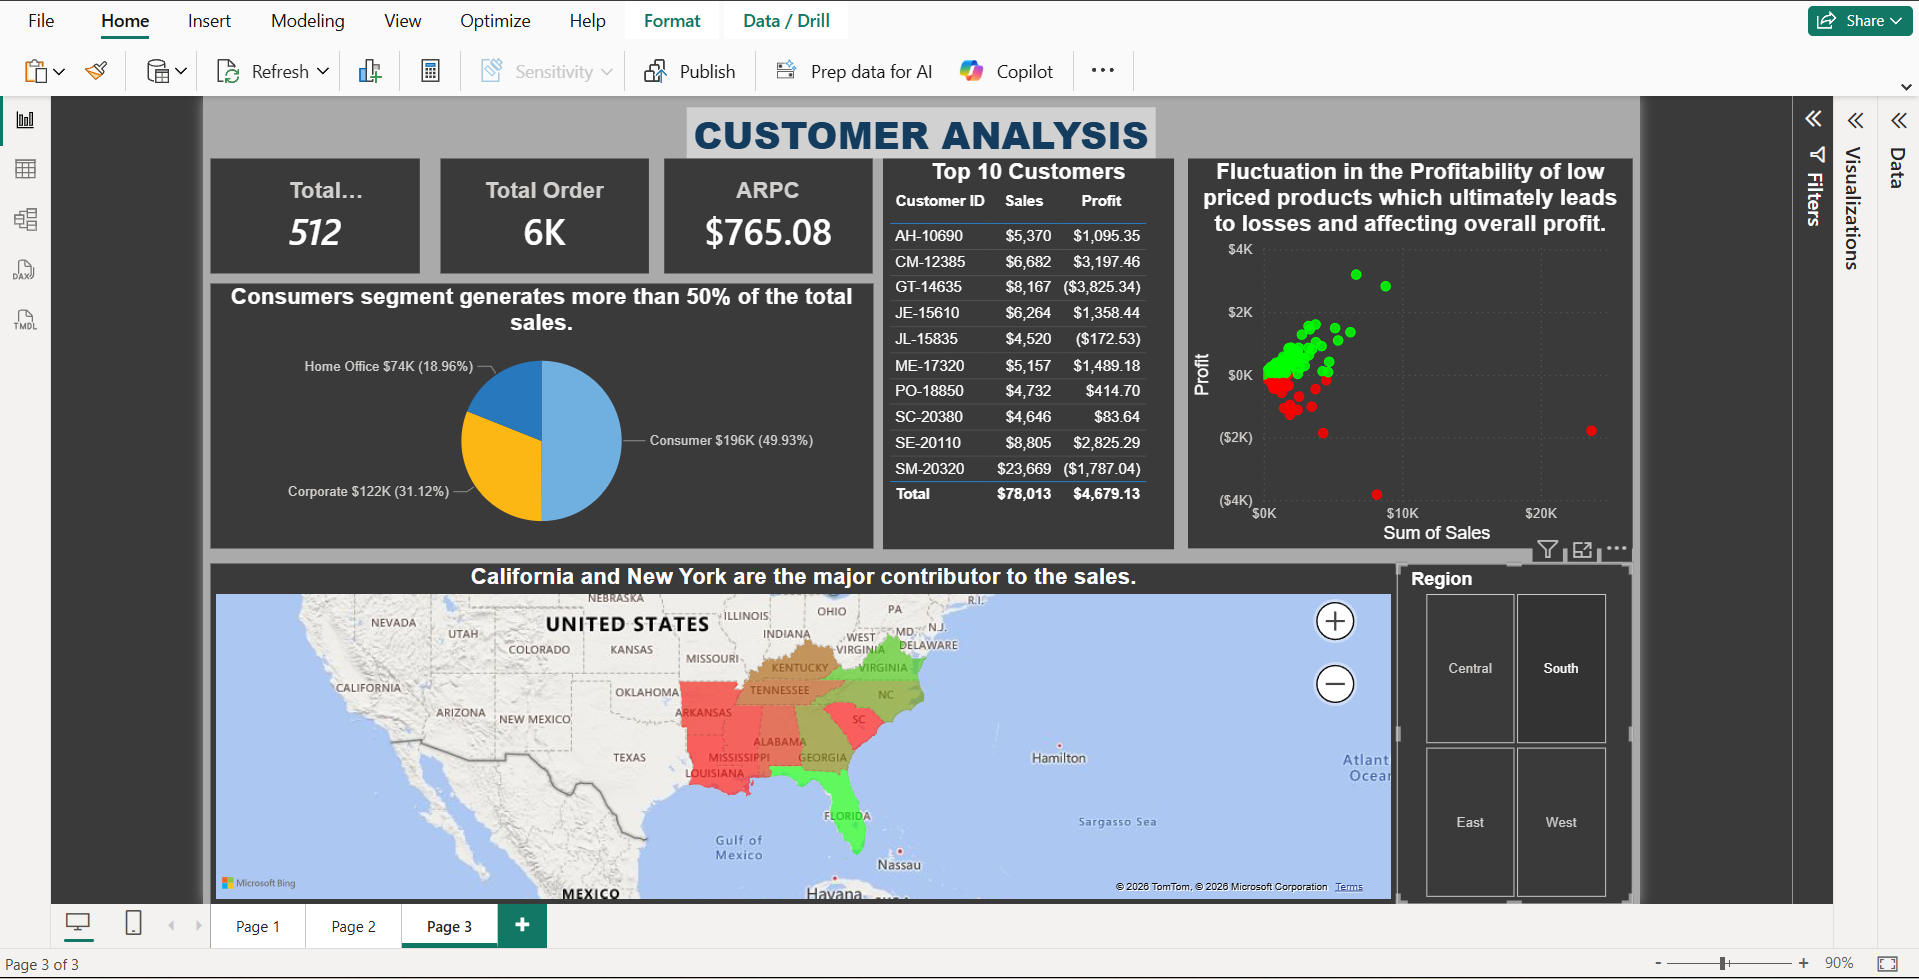

What the dashboard file says about the page in this screenshot:
{"tool":"powerbi","page":{"name":"Page 3","canvas":[1280,720],"ordinal":2},"visuals":[{"type":"textbox","title":"CUSTOMER ANALYSIS","box":[430.7,9.7,417.4,45.8],"z":0},{"type":"pieChart","title":"Consumers segment generates more than 50% of the total sales.","fields":{"Category":["superstore.Segment"],"Y":["Sum(superstore.Sales)"]},"box":[7,167,590,236],"z":1000},{"type":"tableEx","title":"Top 10 Customers","fields":{"Values":["superstore.Customer ID","Sum(superstore.Sales)","Sum(superstore.Profit)"]},"box":[605.8,55.8,259.3,347.7],"z":2000},{"type":"filledMap","title":"California and New York are the major contributor to the sales.","fields":{"Category":["superstore.State"]},"box":[6.7,416.3,1056.4,303.9],"z":3000},{"type":"cardVisual","fields":{"Data":["superstore.Total Customer"]},"box":[7,56,186,102],"z":4000},{"type":"cardVisual","fields":{"Data":["superstore.ARPC"]},"box":[410.8,55.7,185.9,102.4],"z":5000},{"type":"cardVisual","fields":{"Data":["Sum(superstore.Quantity)"]},"box":[211.5,55.7,185.9,102.4],"z":6000},{"type":"scatterChart","title":"Fluctuation in the Profitability of low priced products which ultimately leads to losses and affecting overall profit.","fields":{"Y":["Sum(superstore.Profit)"],"X":["superstore.Sales"],"Category":["superstore.Customer ID"]},"box":[877,56,396,347],"z":7000},{"type":"slicer","fields":{"Values":["superstore.Region"]},"box":[1063,416,210,304],"z":8000}]}

Visuals, with their boxes on the page's 1280x720 design canvas (x1, y1, x2, y2). These are canvas units, not pixel positions in the 1919x979 screenshot, which may show the page scaled, cropped or inside an application window:
"CUSTOMER ANALYSIS" textbox: Rect(431, 10, 848, 56)
"Consumers segment generates more than 50% of the total sales." pieChart: Rect(7, 167, 597, 403)
"Top 10 Customers" tableEx: Rect(606, 56, 865, 404)
"California and New York are the major contributor to the sales." filledMap: Rect(7, 416, 1063, 720)
cardVisual - superstore.Total Customer: Rect(7, 56, 193, 158)
cardVisual - superstore.ARPC: Rect(411, 56, 597, 158)
cardVisual - Sum(superstore.Quantity): Rect(212, 56, 397, 158)
"Fluctuation in the Profitability of low priced products which ultimately leads to losses and affecting overall profit." scatterChart: Rect(877, 56, 1273, 403)
slicer - superstore.Region: Rect(1063, 416, 1273, 720)
